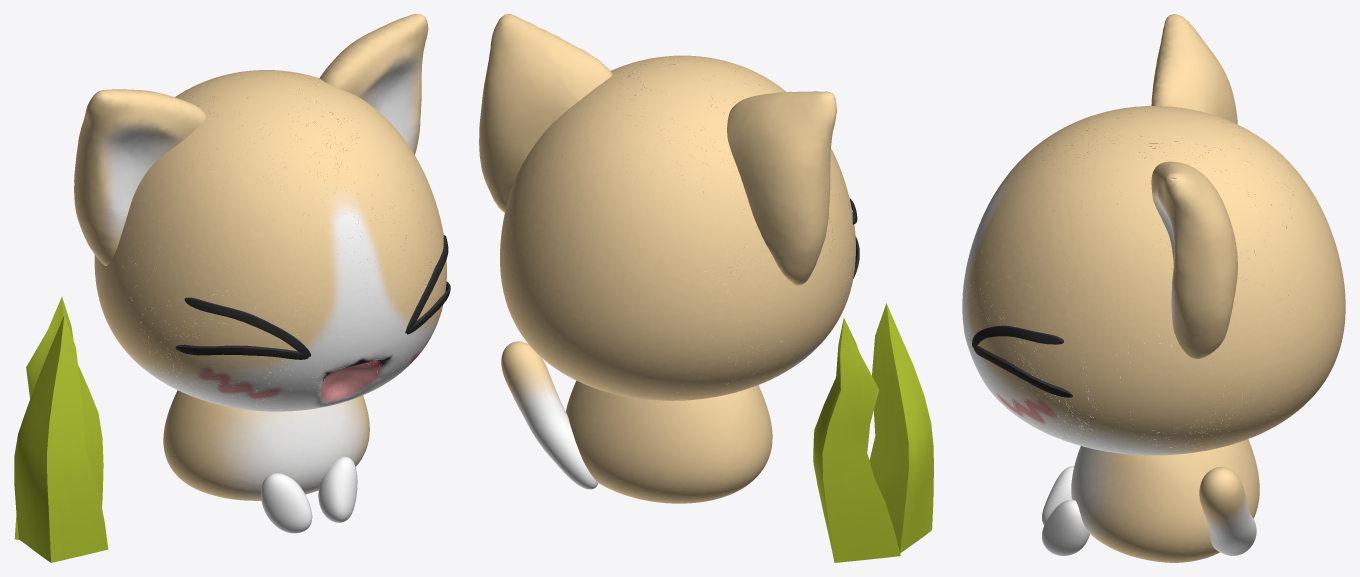
Rendered from cute_cat.gltf.
3 views of the same model, side by side, from view 1: azimuth 30°, elevation 25°; view 2: azimuth 150°, elevation 25°; view 3: azimuth 270°, elevation 25° (orthographic). The views are drawn at different scales.
Visible parts, largest first — view 1: Object_11, Object_7, Object_12, Object_18, Object_3, Object_16, Object_9, Object_5; view 2: Object_11, Object_7, Object_18, Object_5, Object_3, Object_12, Object_14; view 3: Object_11, Object_12, Object_7, Object_18, Object_14, Object_16, Object_9.
Boxes of the visible parts, bbox=[...] form: Object_11: bbox=[94, 70, 446, 410]; Object_7: bbox=[74, 14, 428, 265]; Object_12: bbox=[95, 70, 446, 411]; Object_18: bbox=[163, 319, 369, 500]; Object_3: bbox=[14, 315, 108, 562]; Object_16: bbox=[261, 456, 357, 533]; Object_9: bbox=[175, 235, 450, 359]; Object_5: bbox=[14, 297, 103, 539]; Object_11: bbox=[500, 55, 855, 400]; Object_7: bbox=[479, 14, 836, 285]; Object_18: bbox=[565, 336, 772, 503]; Object_5: bbox=[813, 317, 900, 562]; Object_3: bbox=[869, 303, 933, 553]; Object_12: bbox=[500, 55, 855, 400]; Object_14: bbox=[501, 341, 597, 489]; Object_11: bbox=[962, 106, 1345, 455]; Object_12: bbox=[962, 106, 1294, 453]; Object_7: bbox=[1151, 14, 1237, 358]; Object_18: bbox=[1071, 387, 1259, 562]; Object_14: bbox=[1199, 467, 1256, 555]; Object_16: bbox=[1042, 466, 1089, 555]; Object_9: bbox=[972, 296, 1072, 397].
Size of the model in its own units: 3.46 by 3.51 by 2.69.
